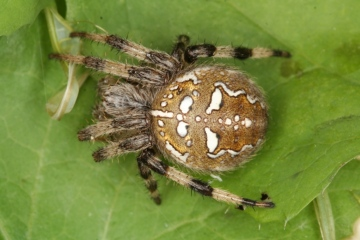spider: (48, 18, 295, 224)
